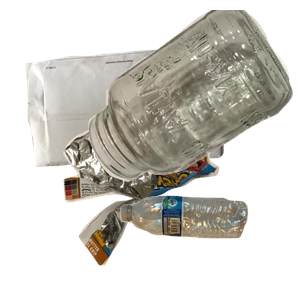glass: (86, 10, 300, 184)
paper: (24, 43, 242, 202)
plastic: (118, 193, 300, 300)
trash: (61, 123, 273, 300)
